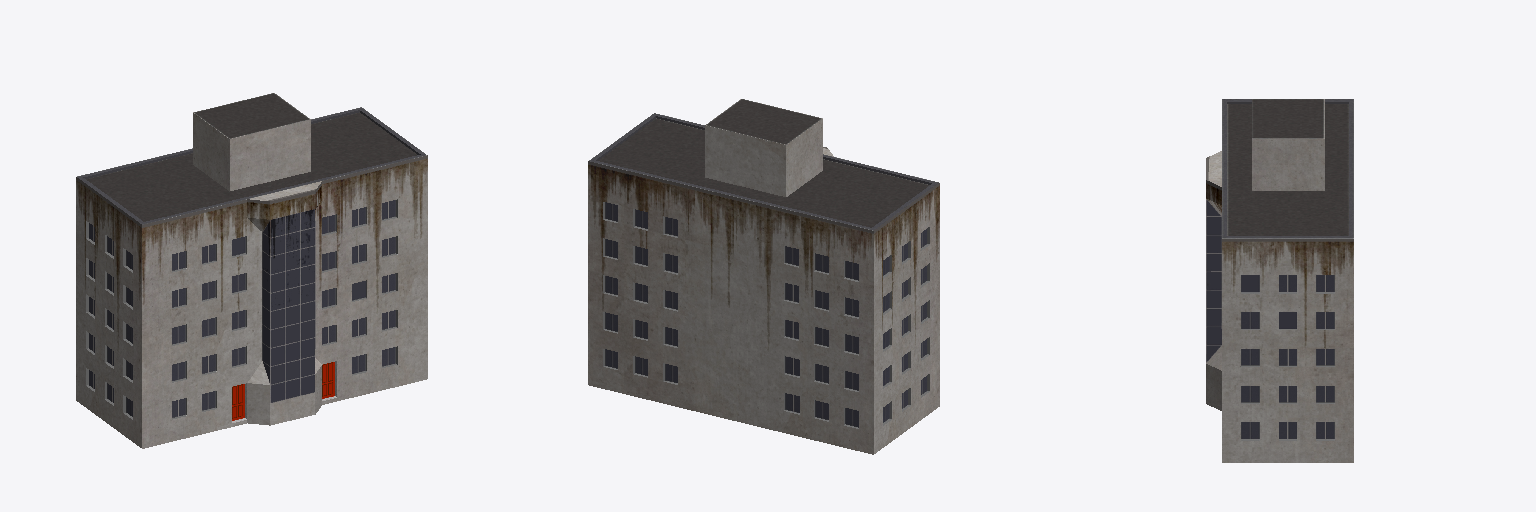
The picture shows the model from 3 angles: view 1: azimuth 30°, elevation 25°; view 2: azimuth 150°, elevation 25°; view 3: azimuth 270°, elevation 25°; orthographic projection.
Parts seen in each view (by area): view 1: obj1; view 2: obj1; view 3: obj1.
Boxes of the visible parts, <box> form: obj1: <box>76,93,427,448</box>; obj1: <box>588,99,939,454</box>; obj1: <box>1206,99,1353,462</box>.
Bounding box in the file's own units: 15.38 × 14.12 × 6.9.
Materials: 1 (1 with a texture image).